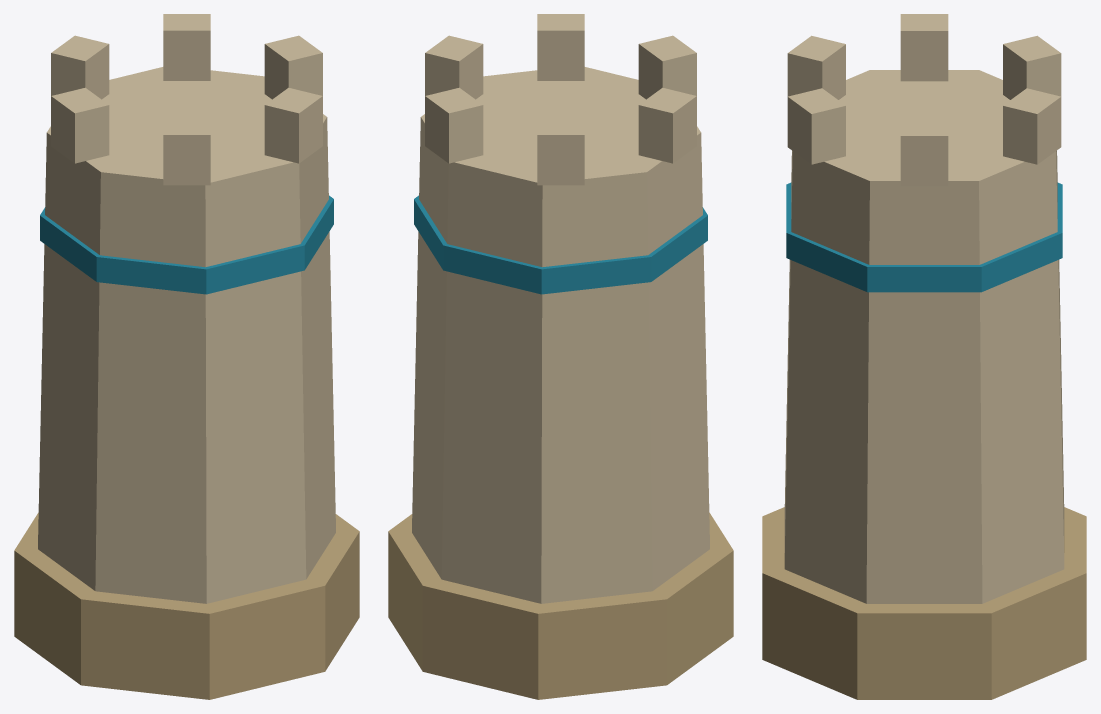
The model's file is wall_t2_post.glb.
The picture shows the model from 3 angles, left to right: view 1: azimuth 30°, elevation 25°; view 2: azimuth 150°, elevation 25°; view 3: azimuth 270°, elevation 25°; orthographic projection.
Parts seen in each view (by area): view 1: body; view 2: body; view 3: body.
Part boxes in pixels (left/top/right/bottom): body: left=14, top=14, right=359, bottom=699; body: left=388, top=14, right=733, bottom=699; body: left=762, top=14, right=1086, bottom=699.
Bounding box in the file's own units: 0.813 × 1.54 × 0.813.
